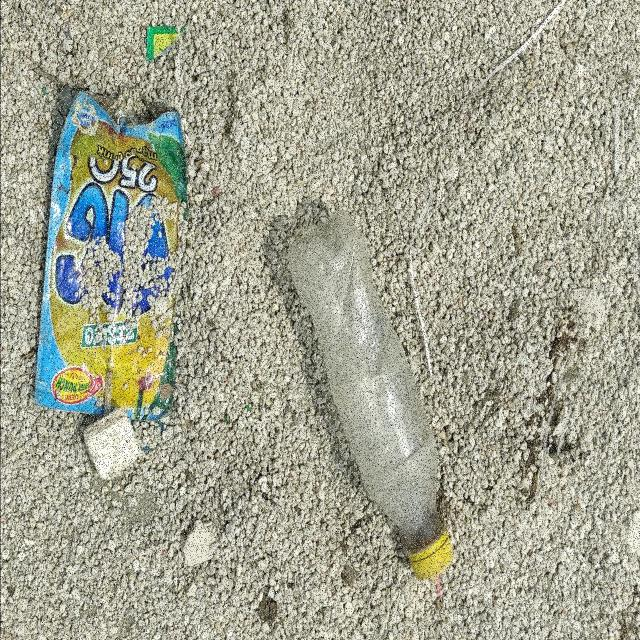plastic_waste: (288, 210, 454, 585), (33, 90, 187, 424)
